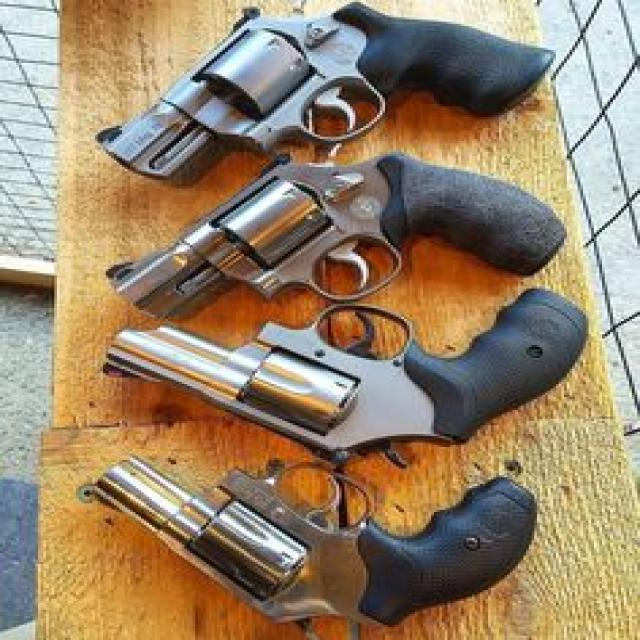revolver: (54, 435, 593, 640)
